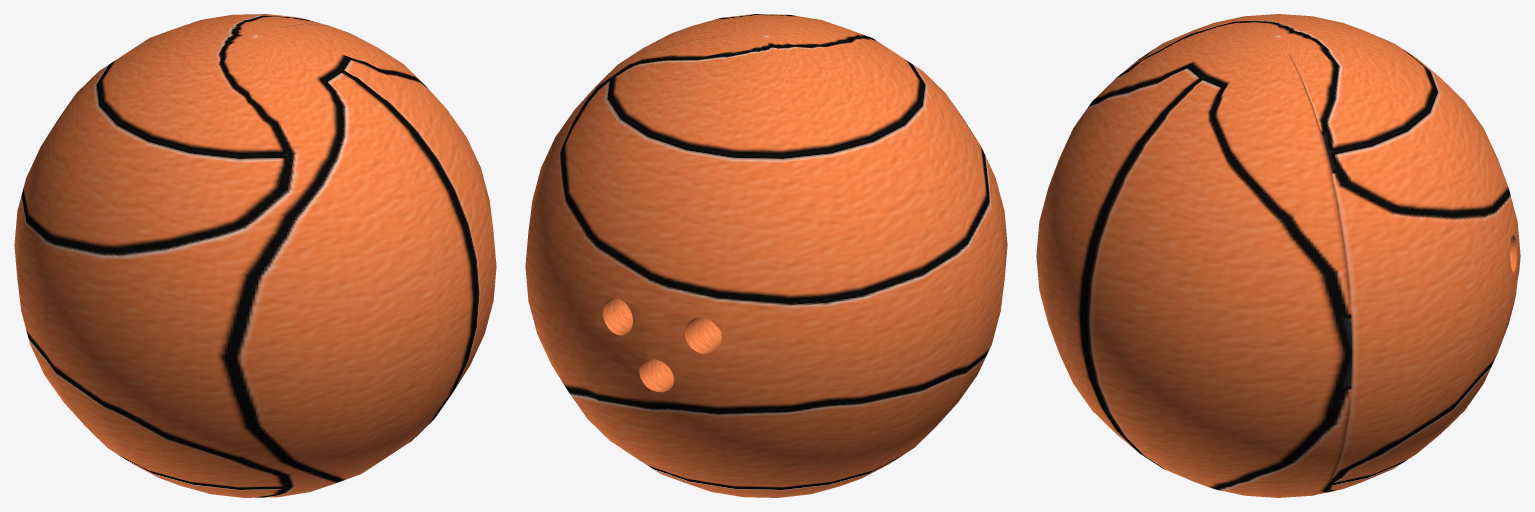
Rendered from bowling 01.fbx.
The picture shows the model from 3 angles, left to right: view 1: azimuth 30°, elevation 25°; view 2: azimuth 150°, elevation 25°; view 3: azimuth 270°, elevation 25°; orthographic projection.
Visible parts, largest first — view 1: pSphere8; view 2: pSphere8; view 3: pSphere8.
Part boxes in pixels (x1,y1,x2,y2): pSphere8: (14, 14, 496, 497); pSphere8: (525, 14, 1007, 497); pSphere8: (1036, 14, 1520, 497).
Bounding box in the file's own units: 193 × 193 × 193.
Materials: 1 (1 with a texture image).
